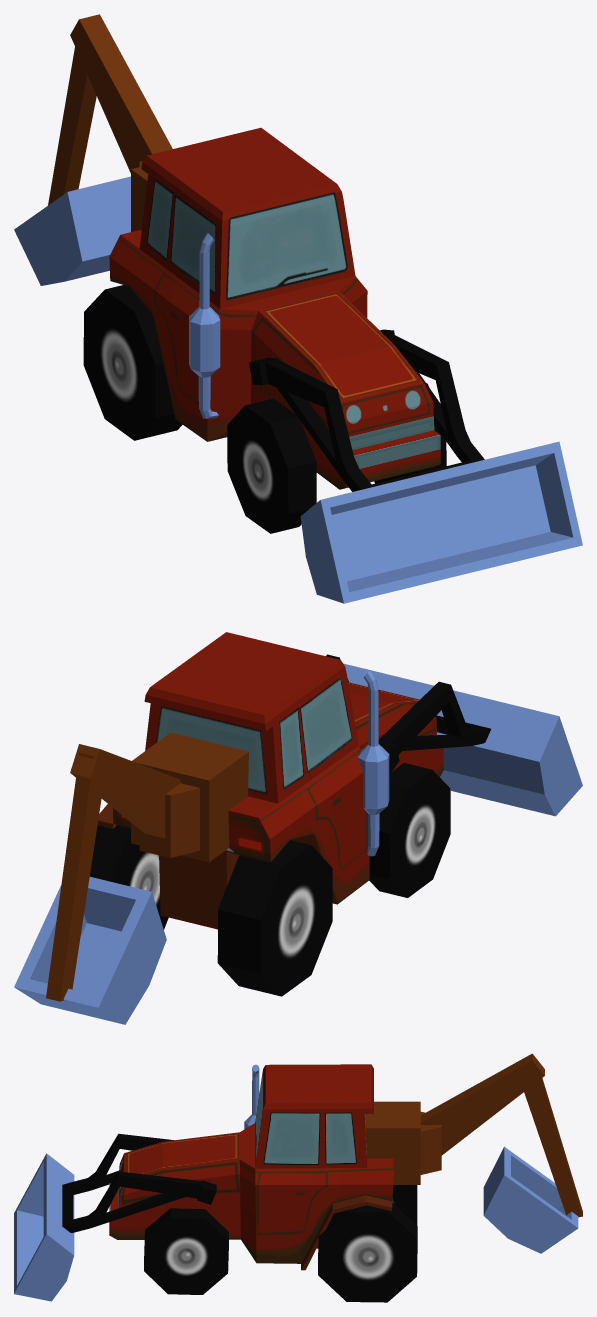
Rendered from ToyTractor.fbx.
The picture shows the model from 3 angles, top to bottom: view 1: azimuth 30°, elevation 25°; view 2: azimuth 150°, elevation 25°; view 3: azimuth 270°, elevation 25°; orthographic projection. The views are drawn at different scales.
Parts seen in each view (by area): view 1: TracktorCarBody, Cube.005, TracktorCar_Wheel_0, TracktorCar_Wheel_2, MowerHolder.001, Cube.004, Cube.001, Cube.003, TracktorCar_Pipe, Cube; view 2: TracktorCarBody, TracktorCar_Wheel_0, Cube.005, Cube.004, Cube, TracktorCar_Wheel_2, Cube.003, Cube.001, MowerHolder.001, TracktorCar_Wheel_1, TracktorCar_Pipe; view 3: TracktorCarBody, TracktorCar_Wheel_1, Cube.005, TracktorCar_Wheel_3, Cube.004, MowerHolder.001, Cube, Cube.001, Cube.003, TracktorCar_Wheel_0, TracktorCar_Pipe.
Part boxes in pixels (x1,y1,x2,y2): TracktorCarBody: (109, 127, 440, 489); Cube.005: (300, 441, 582, 603); TracktorCar_Wheel_0: (83, 285, 182, 440); TracktorCar_Wheel_2: (227, 398, 316, 533); MowerHolder.001: (249, 329, 484, 491); Cube.004: (14, 176, 130, 285); Cube.001: (70, 14, 172, 173); Cube.003: (48, 47, 96, 205); TracktorCar_Pipe: (189, 233, 220, 418); Cube: (131, 161, 148, 231); TracktorCarBody: (97, 632, 443, 929); TracktorCar_Wheel_0: (217, 840, 332, 996); Cube.005: (343, 663, 582, 816); Cube.004: (14, 876, 166, 1024); Cube: (131, 732, 248, 862); TracktorCar_Wheel_2: (369, 763, 450, 897); Cube.003: (46, 752, 102, 1001); Cube.001: (70, 744, 180, 838); MowerHolder.001: (326, 654, 490, 774); TracktorCar_Wheel_1: (89, 825, 168, 929); TracktorCar_Pipe: (358, 670, 389, 856); TracktorCarBody: (109, 1064, 393, 1270); TracktorCar_Wheel_1: (318, 1203, 417, 1302); Cube.005: (14, 1153, 74, 1301); TracktorCar_Wheel_3: (144, 1208, 228, 1294); Cube.004: (483, 1146, 578, 1253); MowerHolder.001: (62, 1133, 216, 1232); Cube: (365, 1101, 441, 1184); Cube.001: (420, 1053, 544, 1155); Cube.003: (524, 1058, 582, 1217); TracktorCar_Wheel_0: (392, 1185, 417, 1225); TracktorCar_Pipe: (244, 1064, 259, 1129).
Size of the model in its own units: 31.83 by 38.96 by 94.72.
